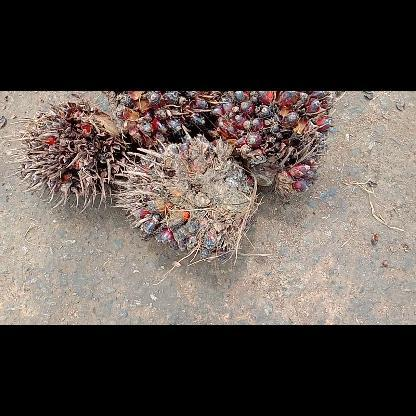TBS abnormal: (113, 126, 256, 264), (3, 96, 131, 214), (211, 90, 345, 196), (108, 91, 226, 151)
